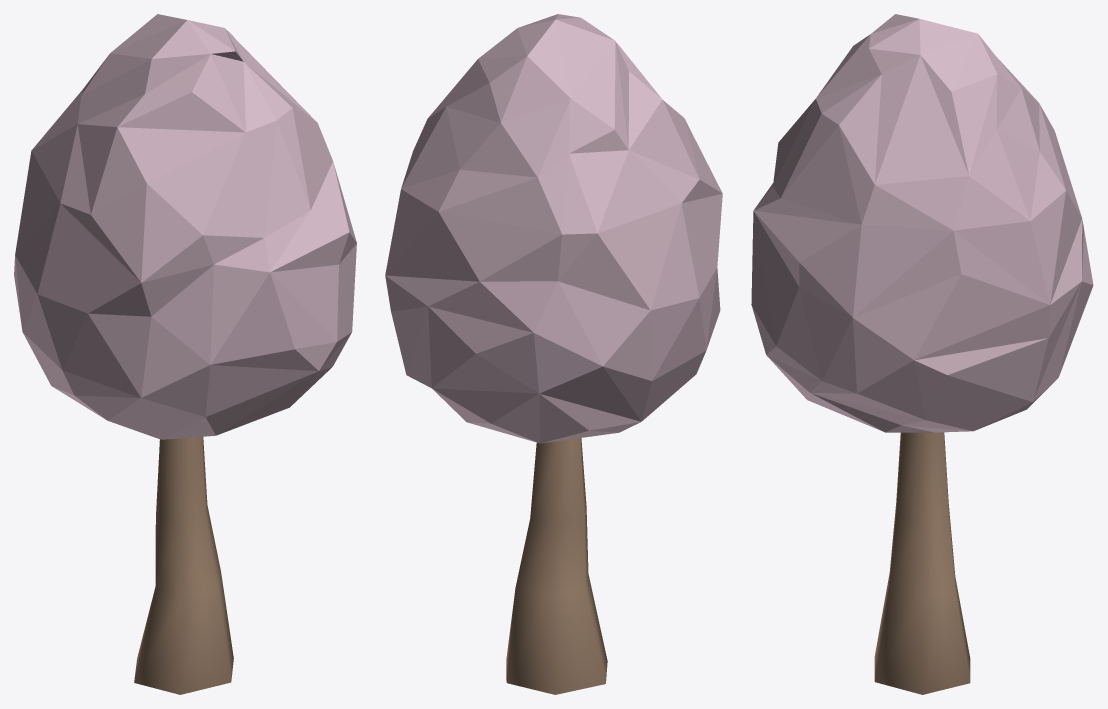
Rendered from tree3-1.fbx.
The picture shows the model from 3 angles, left to right: view 1: azimuth 30°, elevation 25°; view 2: azimuth 150°, elevation 25°; view 3: azimuth 270°, elevation 25°; orthographic projection.
Visible parts, largest first — view 1: leaf1; view 2: leaf1; view 3: leaf1.
Part boxes in pixels (<box>): leaf1: <box>14,14,356,694</box>; leaf1: <box>385,14,722,694</box>; leaf1: <box>751,14,1093,694</box>.
Bounding box in the file's own units: 0.0419 × 0.0892 × 0.0424.
